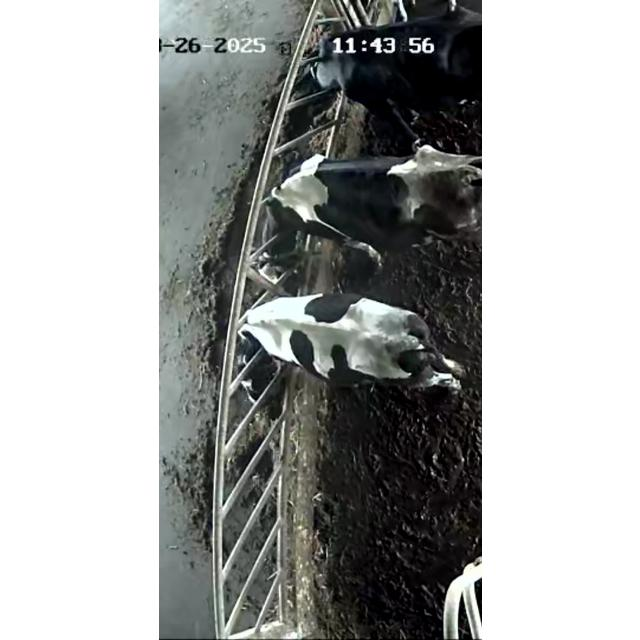eat: (202, 154, 382, 258), (233, 11, 401, 114), (190, 287, 348, 387)
